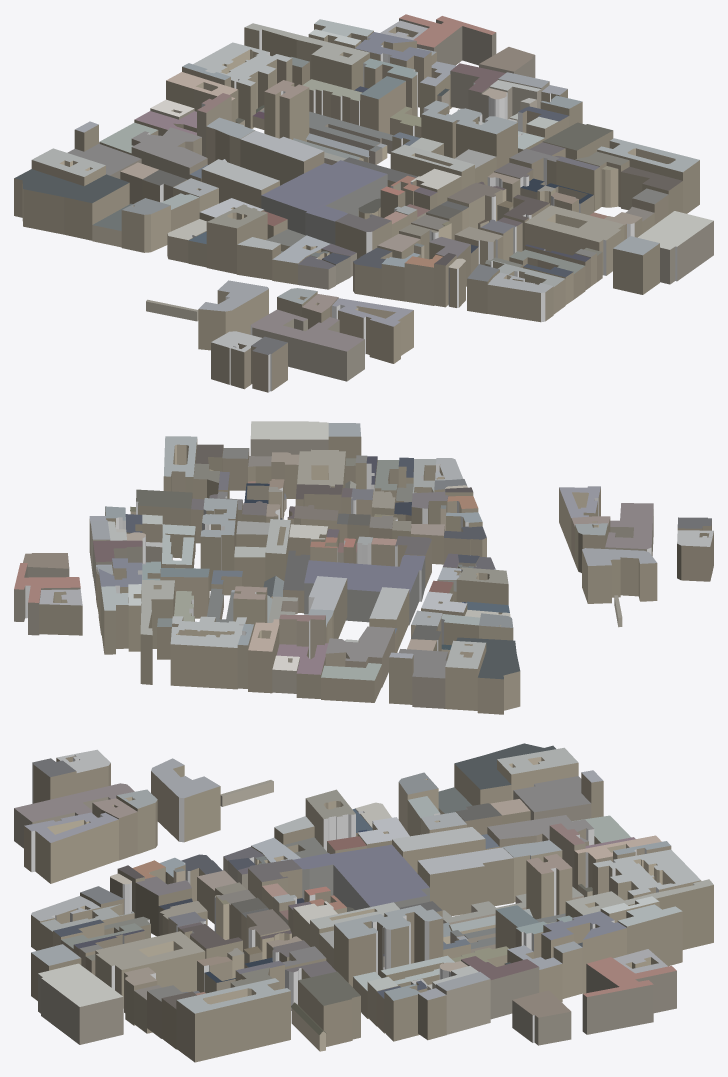
The picture shows the model from 3 angles, top to bottom: view 1: azimuth 30°, elevation 25°; view 2: azimuth 150°, elevation 25°; view 3: azimuth 270°, elevation 25°; orthographic projection. The views are drawn at different scales.
Visible parts, largest first — view 1: tuile; view 2: tuile; view 3: tuile.
Boxes of the visible parts, <box> form: tuile: <box>14,14,713,392</box>; tuile: <box>14,421,713,714</box>; tuile: <box>14,743,713,1062</box>.
Size of the model in its own units: 275 by 36.84 by 284.
